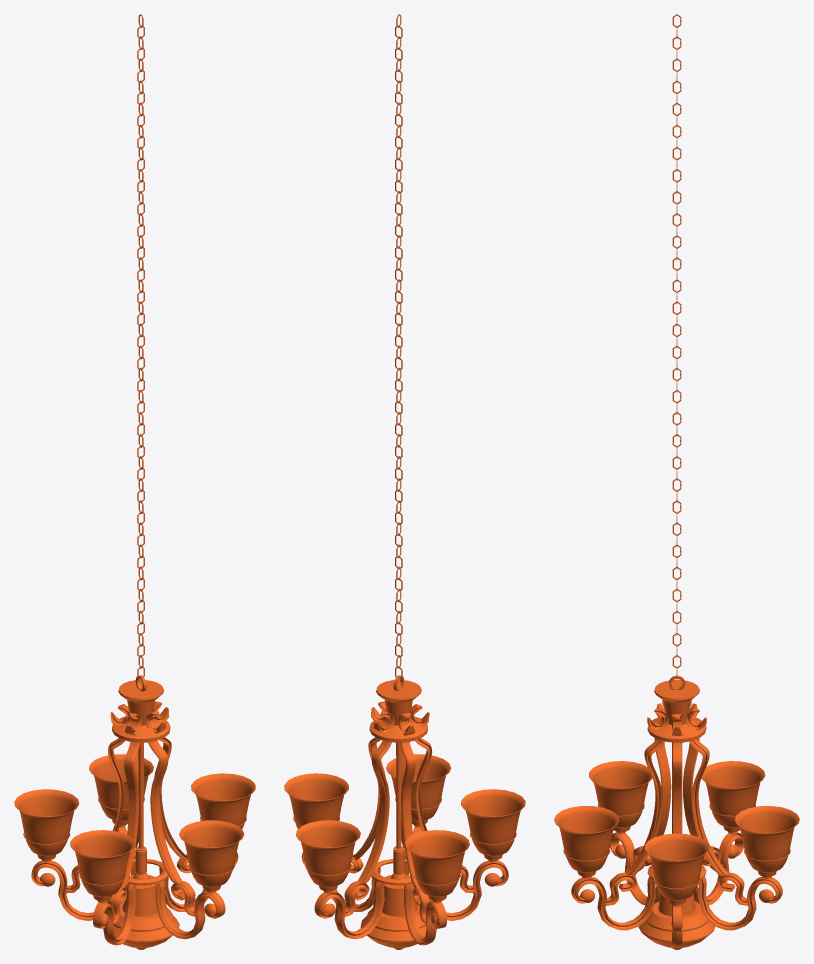
Rendered from chandelier.obj.
3 renders of one model, left to right at view 1: azimuth 30°, elevation 25°; view 2: azimuth 150°, elevation 25°; view 3: azimuth 270°, elevation 25°, orthographic.
Visible parts, largest first — view 1: BezierCurve; view 2: BezierCurve; view 3: BezierCurve.
Boxes of the visible parts, x1,y1,x2,y2 form: BezierCurve: (14,14,255,949); BezierCurve: (284,14,525,949); BezierCurve: (554,14,799,949).
Size of the model in its own units: 6.17 by 26.87 by 6.4.
